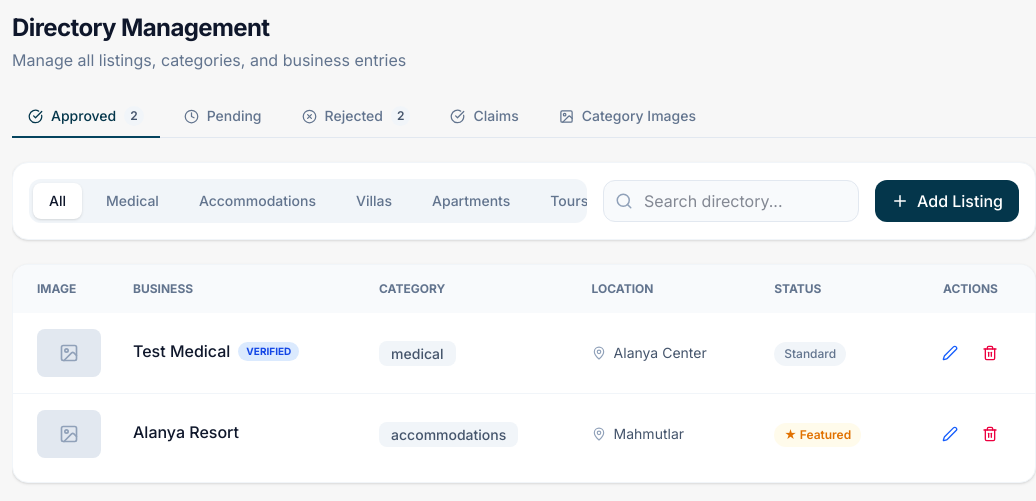
it: DirectoryAdminPage › filters listings by search query (name)
Expected: the text "Test Medical" is shown, [133,341,230,361]
Type "Resort" into the field with placeholder "Search directory...".
click(731, 201); type("Resort")  # box [603,180,859,222]
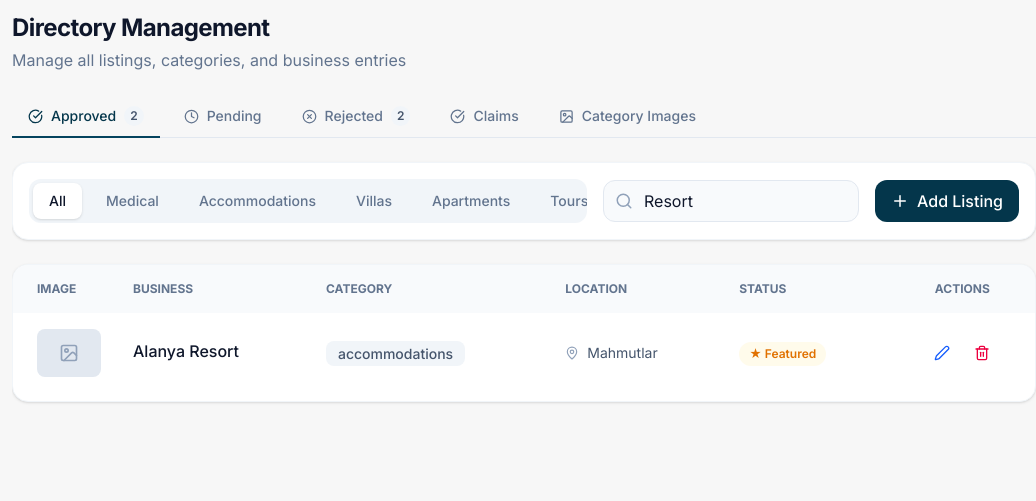
Expected: the text "Alanya Resort" is shown, [133,341,239,361]
Result: the text "Test Medical" is gone
